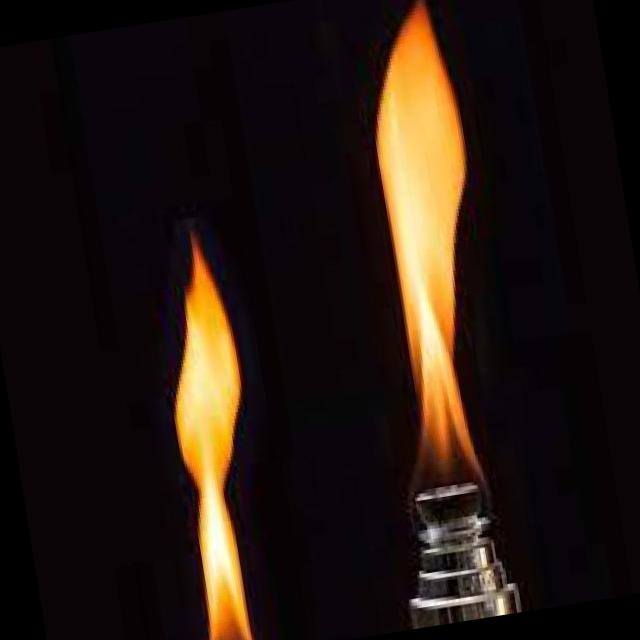Fire: (331, 0, 533, 515), (83, 202, 312, 640)
